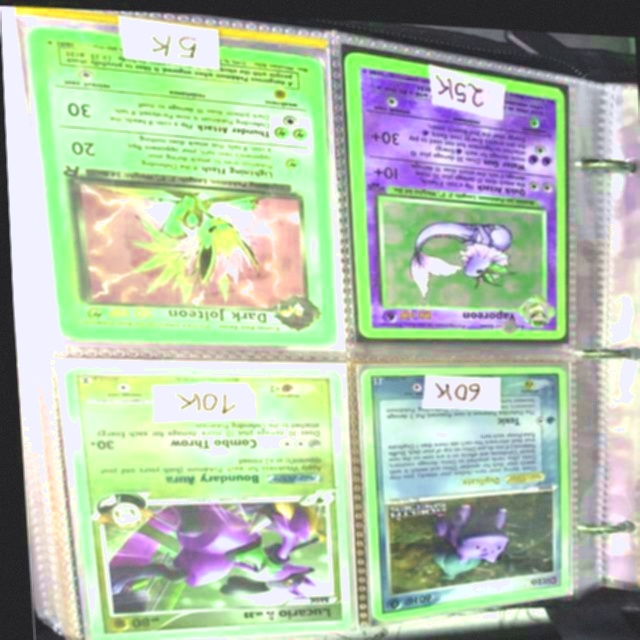card: (26, 26, 334, 342), (59, 365, 346, 640), (343, 47, 564, 333), (357, 359, 564, 617)
